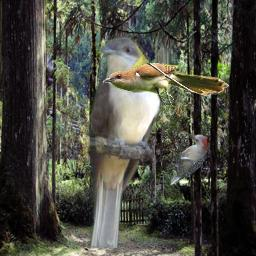Cuckoo: (84, 36, 161, 248), (103, 63, 229, 107)
Woodpecker: (169, 133, 207, 186)
